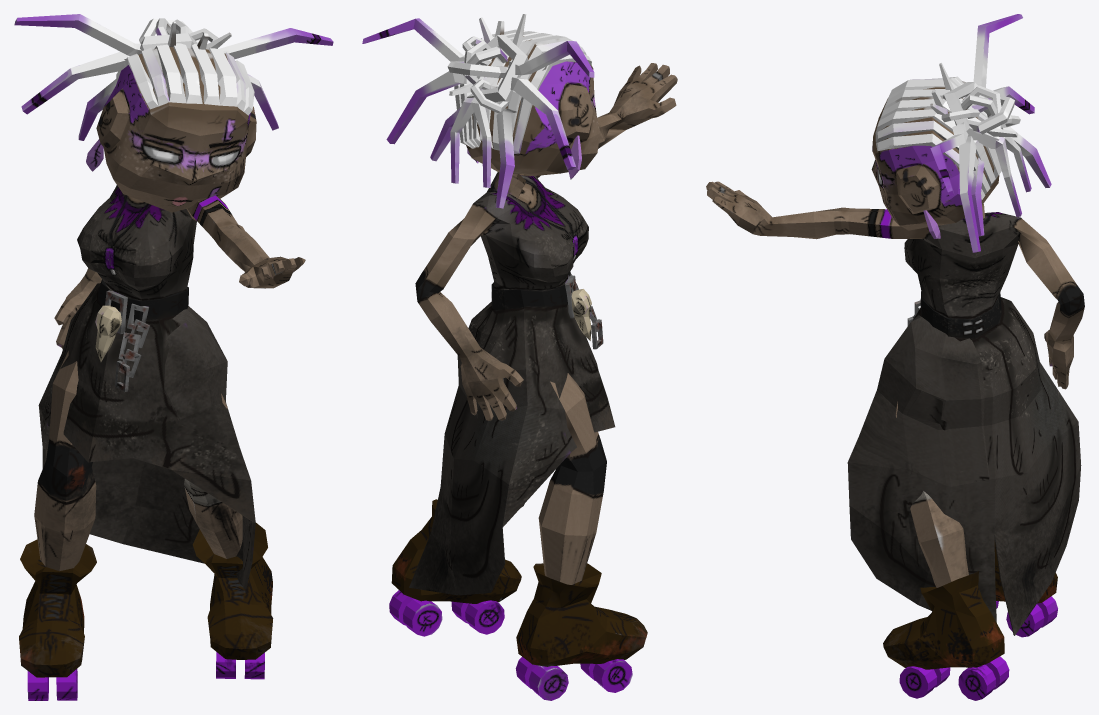
Rendered from bruja_000024.obj.
The picture shows the model from 3 angles, left to right: view 1: azimuth 30°, elevation 25°; view 2: azimuth 150°, elevation 25°; view 3: azimuth 270°, elevation 25°; orthographic projection. The views are drawn at different scales.
Visible parts, largest first — view 1: Bruja_Plane.001; view 2: Bruja_Plane.001; view 3: Bruja_Plane.001.
Part boxes in pixels (x1=…): Bruja_Plane.001: x1=14, y1=14, x2=333, y2=700; Bruja_Plane.001: x1=362, y1=14, x2=677, y2=700; Bruja_Plane.001: x1=706, y1=14, x2=1084, y2=700.
Size of the model in its own units: 7.74 by 16.37 by 9.22.
